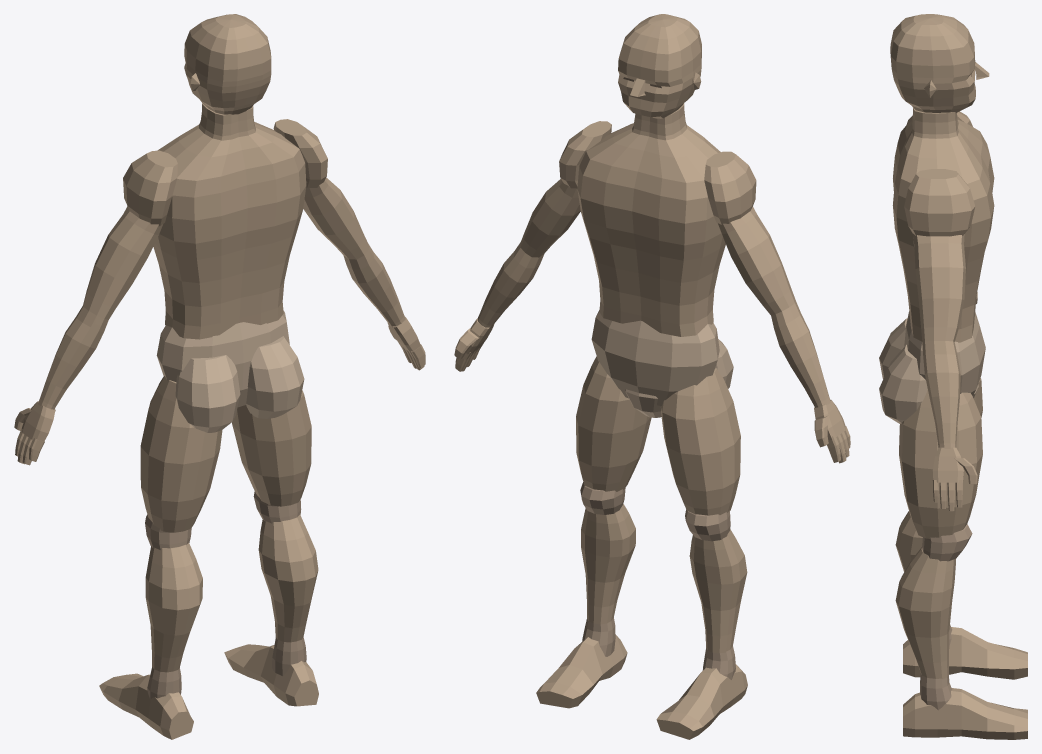
File: lowpoly_human_stage4.glb
3 renders of one model, left to right at view 1: azimuth 30°, elevation 25°; view 2: azimuth 150°, elevation 25°; view 3: azimuth 270°, elevation 25°, orthographic. The views are drawn at different scales.
Visible parts, largest first — view 1: UpperBack, LowerBack, RightThigh, Glutes, LeftThigh, RightCalf, LeftCalf, UpperSkullCranium, RightUpperArm, Pelvis, RightFoot, RightShoulder (+13 smaller); view 2: RightThigh, RightChest, Belly, Pelvis, LeftThigh, LeftChest, RightCalf, UpperSkullCranium, LeftCalf, RightUpperArm, RightFoot, LeftFoot (+13 smaller); view 3: LeftThigh, LeftCalf, UpperSkullCranium, LeftUpperArm, LeftFoot, LeftShoulder, LeftChest, RightFoot, Glutes, LeftForearm, UpperBack, LowerSkullJaw (+9 smaller).
Part boxes in pixels (bbox=[...]): UpperBack: bbox=[158, 124, 306, 259]; LowerBack: bbox=[161, 229, 297, 339]; RightThigh: bbox=[140, 376, 222, 532]; Glutes: bbox=[175, 336, 304, 432]; LeftThigh: bbox=[232, 390, 311, 506]; RightCalf: bbox=[145, 543, 202, 672]; LeftCalf: bbox=[258, 514, 318, 642]; UpperSkullCranium: bbox=[184, 14, 271, 87]; RightUpperArm: bbox=[83, 206, 162, 326]; Pelvis: bbox=[156, 310, 289, 407]; RightFoot: bbox=[99, 673, 193, 739]; RightShoulder: bbox=[123, 150, 177, 226]; RightThigh: bbox=[661, 368, 740, 515]; RightChest: bbox=[632, 134, 722, 260]; Belly: bbox=[586, 231, 719, 336]; Pelvis: bbox=[591, 310, 719, 405]; LeftThigh: bbox=[576, 356, 651, 491]; LeftChest: bbox=[577, 125, 648, 249]; RightCalf: bbox=[689, 529, 747, 653]; UpperSkullCranium: bbox=[618, 14, 701, 86]; LeftCalf: bbox=[581, 504, 635, 624]; RightUpperArm: bbox=[718, 206, 795, 315]; RightFoot: bbox=[656, 664, 747, 739]; LeftFoot: bbox=[536, 635, 627, 708]; LeftThigh: bbox=[899, 389, 982, 538]; LeftCalf: bbox=[895, 547, 955, 679]; UpperSkullCranium: bbox=[890, 14, 975, 83]; LeftUpperArm: bbox=[913, 233, 965, 350]; LeftFoot: bbox=[903, 688, 1027, 739]; LeftShoulder: bbox=[904, 169, 975, 236]; LeftChest: bbox=[936, 128, 994, 263]; RightFoot: bbox=[903, 627, 1027, 679]; Glutes: bbox=[879, 318, 927, 423]; LeftForearm: bbox=[923, 341, 960, 448]; UpperBack: bbox=[892, 121, 937, 262]; LowerSkullJaw: bbox=[892, 69, 975, 112].
Size of the model in its own units: 1.13 by 1.86 by 0.368.
